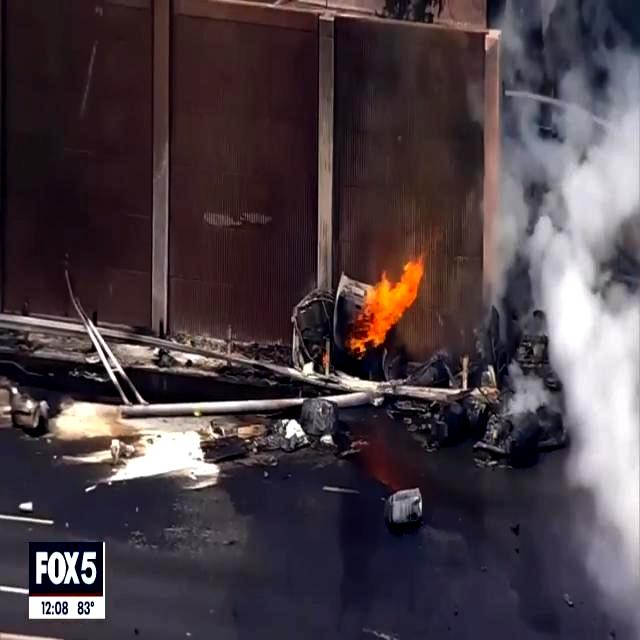fire: (346, 254, 434, 362)
